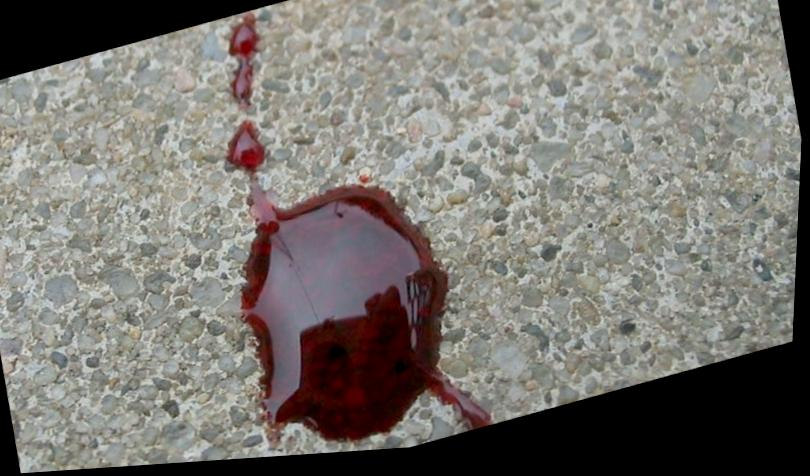Fire: (226, 122, 498, 449), (228, 14, 261, 115)
